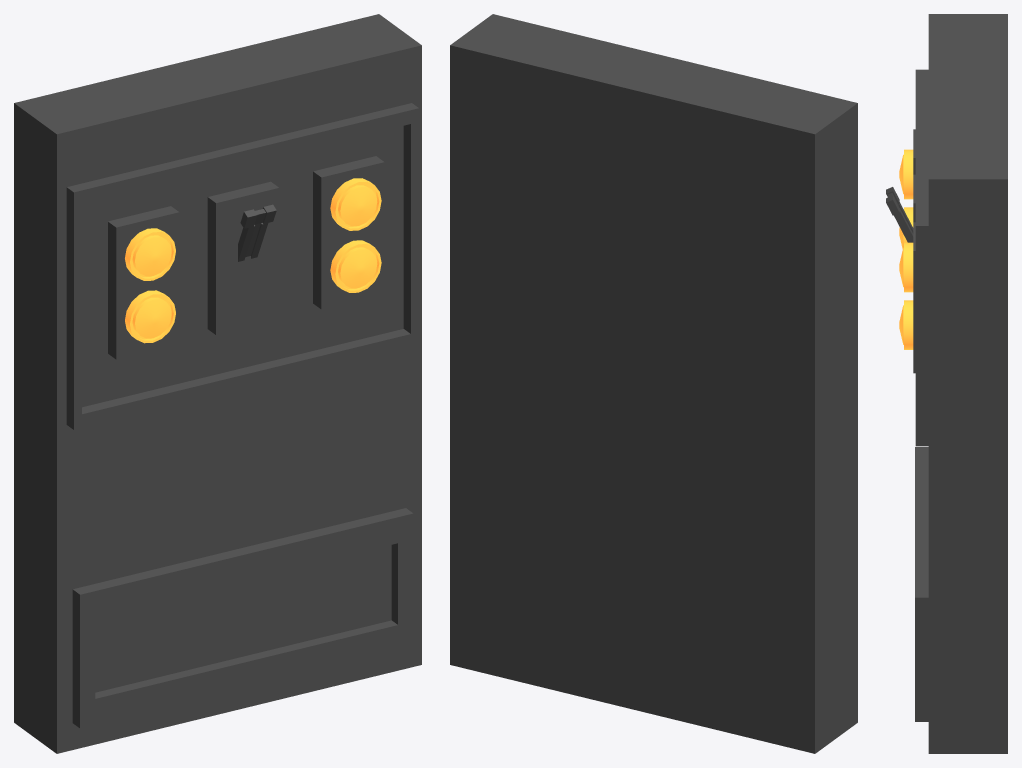
The model's file is Panel_Start.fbx.
The picture shows the model from 3 angles, left to right: view 1: azimuth 30°, elevation 25°; view 2: azimuth 150°, elevation 25°; view 3: azimuth 270°, elevation 25°; orthographic projection. The views are drawn at different scales.
Parts seen in each view (by area): view 1: Eletric Start; view 2: Eletric Start; view 3: Eletric Start.
Part boxes in pixels (x1,y1,x2,y2): Eletric Start: [14, 14, 421, 753]; Eletric Start: [450, 14, 857, 753]; Eletric Start: [886, 14, 1007, 753].
Bounding box in the file's own units: 493 × 800 × 154.
